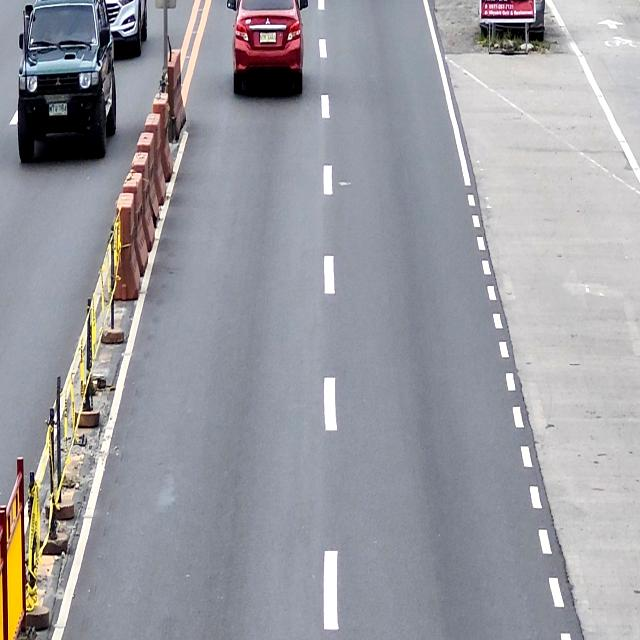Car: (228, 0, 308, 98)
License-Plate: (259, 33, 277, 43)
